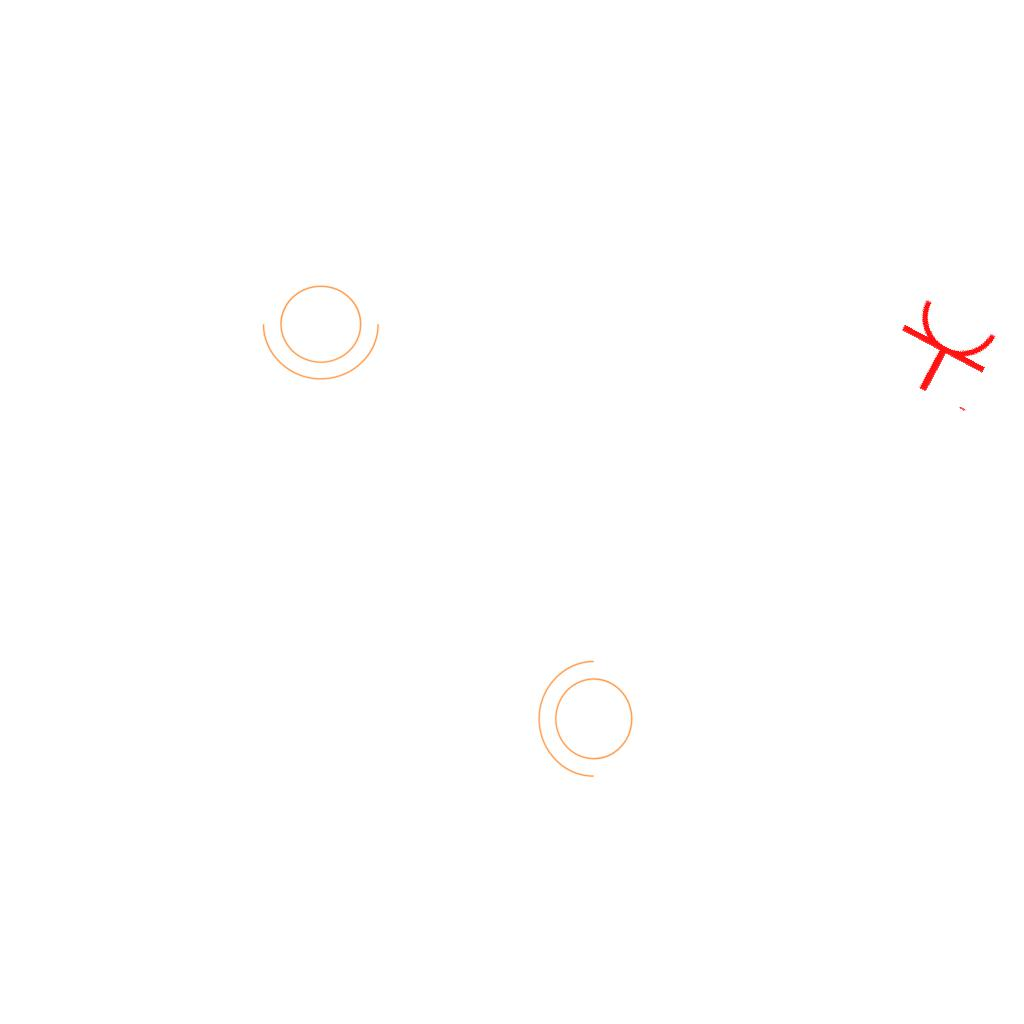Scheinwerfer_fuer_Alarmbeleuchtung: (258, 273, 390, 385), (533, 656, 645, 788)
Schukosteckdose_einfach: (878, 292, 1009, 416)
